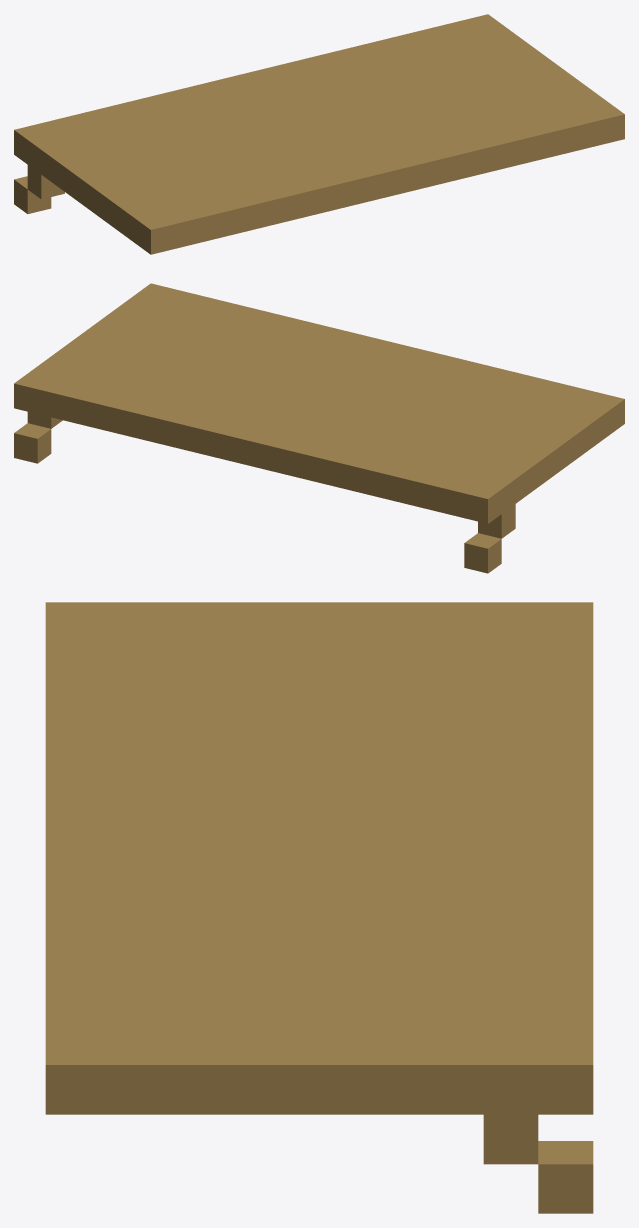
Rendered from SHelf.obj.
3 renders of one model, top to bottom at view 1: azimuth 30°, elevation 25°; view 2: azimuth 150°, elevation 25°; view 3: azimuth 270°, elevation 25°, orthographic. The views are drawn at different scales.
Size of the model in its own units: 2 by 0.3 by 1.
Materials: 1 (1 with a texture image).
